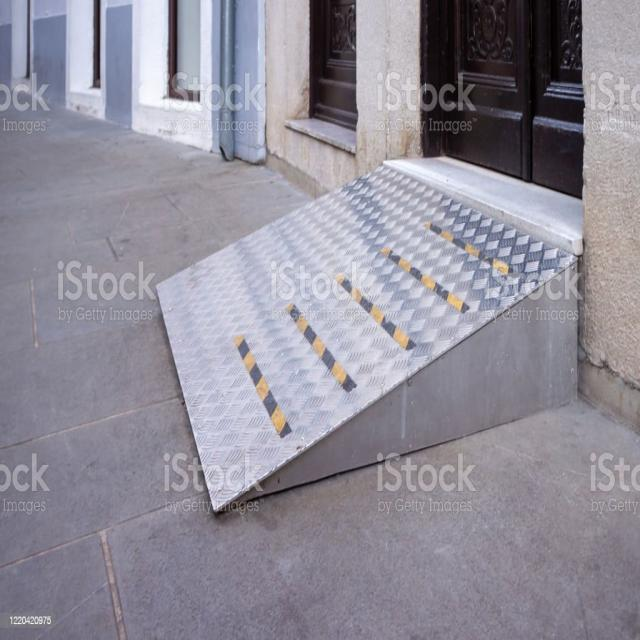CLIMB: (155, 157, 583, 511)
